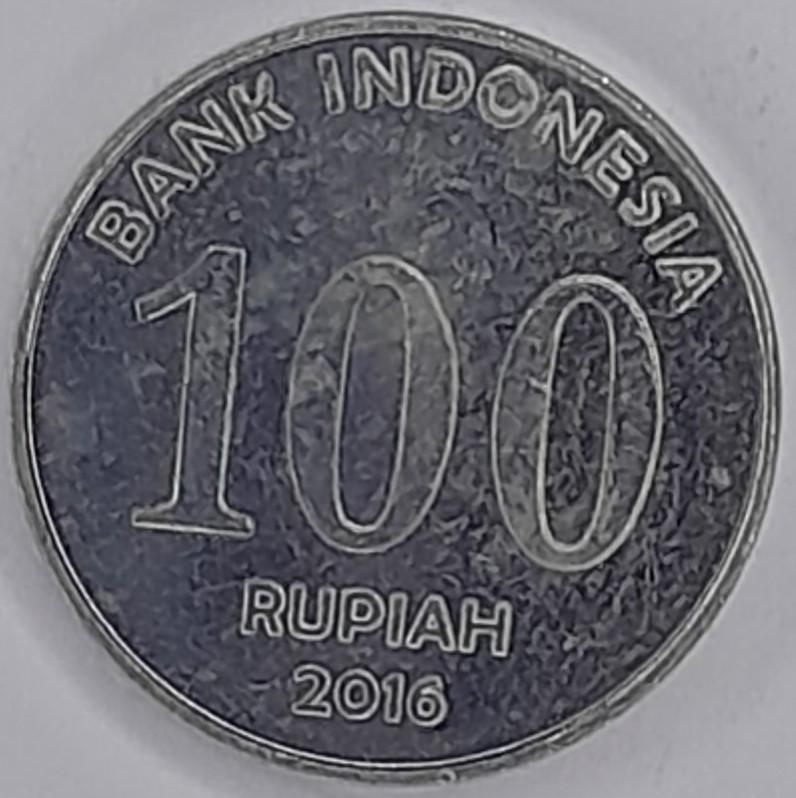coin_100_e2016: (5, 4, 786, 785)
